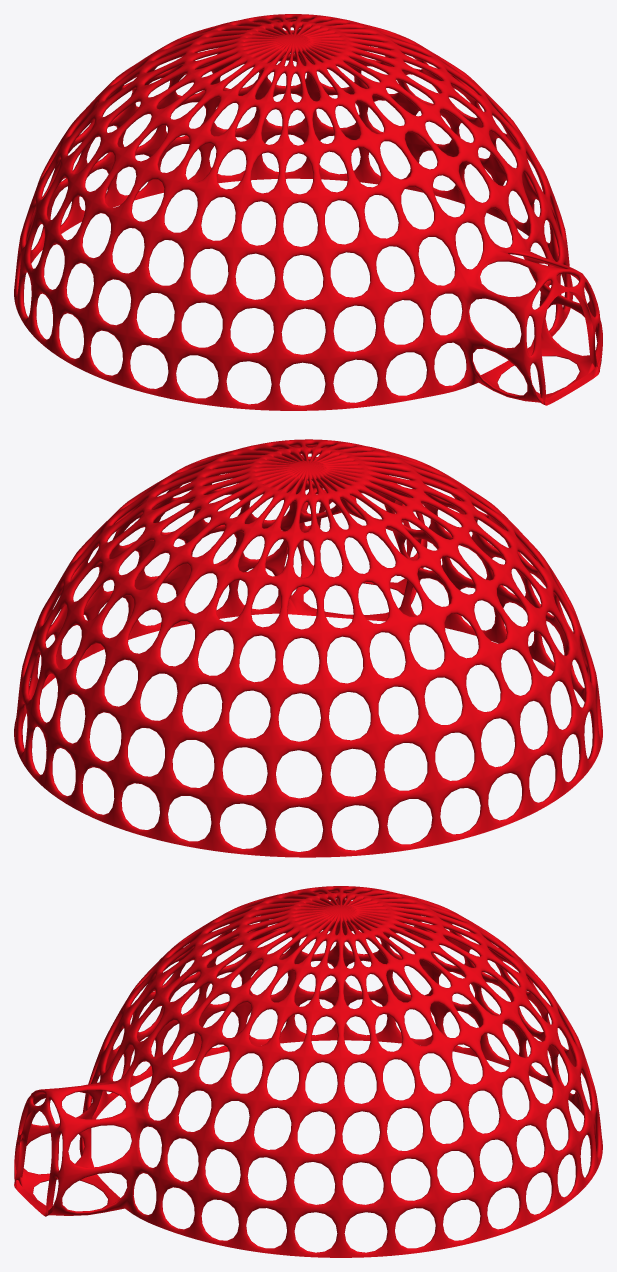
The model's file is IGLU2.fbx.
The picture shows the model from 3 angles, top to bottom: view 1: azimuth 30°, elevation 25°; view 2: azimuth 150°, elevation 25°; view 3: azimuth 270°, elevation 25°; orthographic projection. The views are drawn at different scales.
Visible parts, largest first — view 1: Sphere.001; view 2: Sphere.001; view 3: Sphere.001.
Part boxes in pixels (x1,y1,x2,y2): Sphere.001: (14, 14, 602, 410); Sphere.001: (14, 439, 602, 857); Sphere.001: (14, 886, 602, 1257).
Size of the model in its own units: 2886 by 1478 by 3244.
